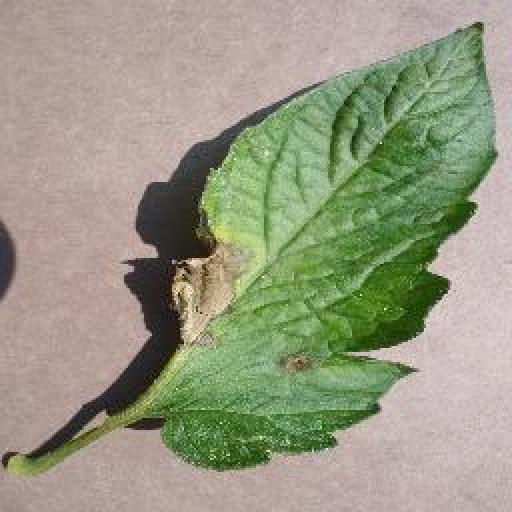disease_tomato: (164, 20, 498, 470)
